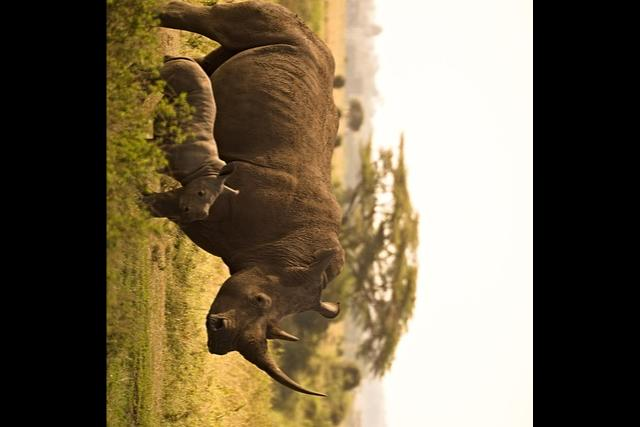Non_Gorille: (117, 0, 442, 427)
